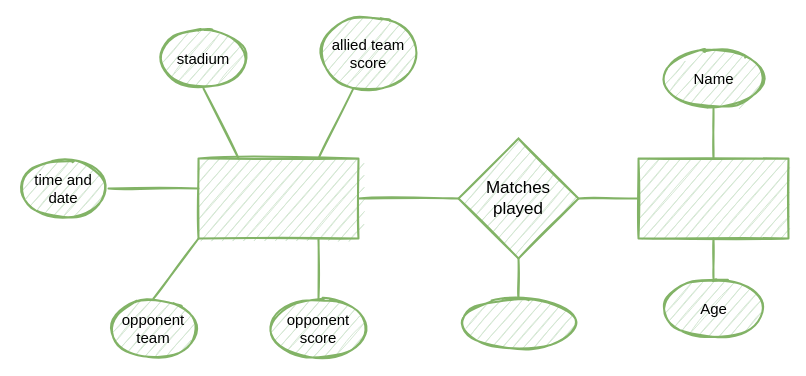
This 806x376 diagram has some shape labels left out. Here are the shapes that lost their labels. From the top down, the box of each, then its label:
(197, 157, 359, 239): Match
(637, 157, 789, 239): Players
(457, 297, 579, 349): Total score
